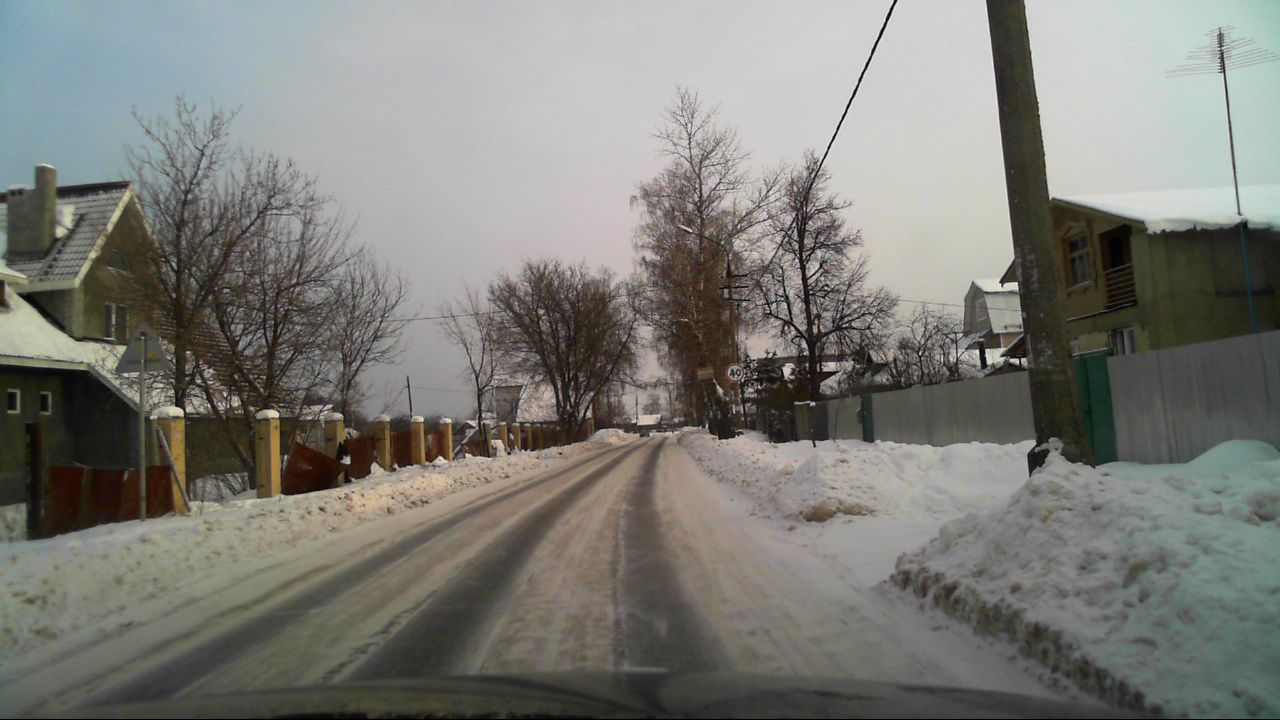speed_warning_40: (725, 362, 744, 381)
